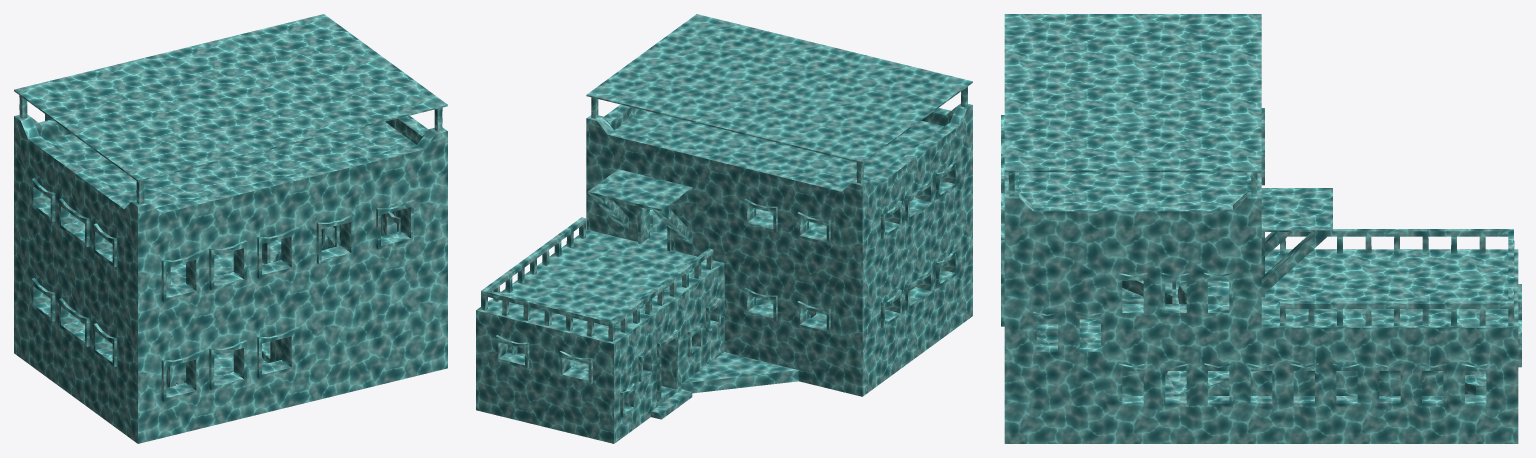
Rendered from slave_house.fbx.
The picture shows the model from 3 angles, left to right: view 1: azimuth 30°, elevation 25°; view 2: azimuth 150°, elevation 25°; view 3: azimuth 270°, elevation 25°; orthographic projection. The views are drawn at different scales.
Parts seen in each view (by area): view 1: 1495; view 2: 1495; view 3: 1495.
Boxes of the visible parts, x1,y1,x2,y2 form: 1495: [14, 14, 447, 443]; 1495: [476, 14, 972, 443]; 1495: [1001, 14, 1521, 443].
Size of the model in its own units: 26.5 by 21.13 by 36.5.
